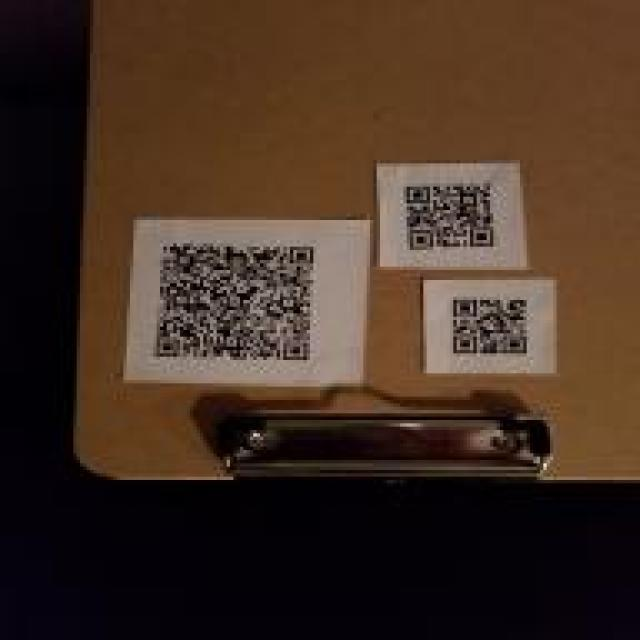qr_code: (155, 242, 315, 361), (404, 184, 495, 249), (453, 298, 529, 354)
